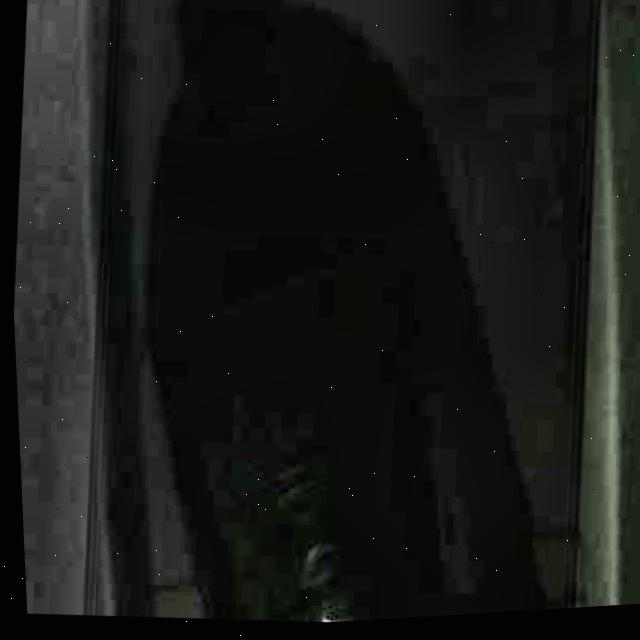plastic: (55, 0, 623, 637)
